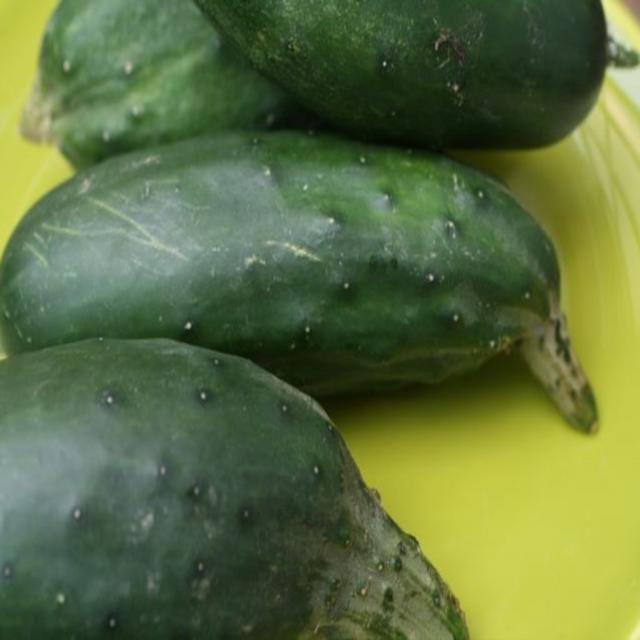Cucumber: (0, 130, 559, 399), (0, 338, 460, 639), (193, 0, 615, 144), (20, 0, 331, 170)
